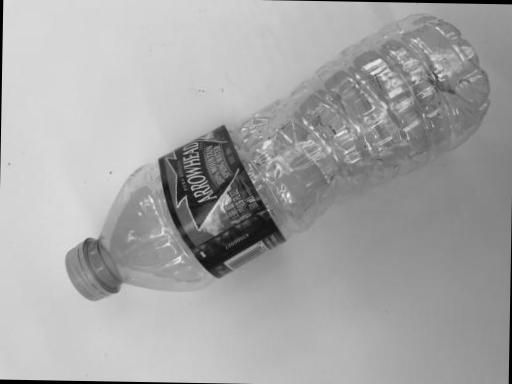plastic: (31, 1, 497, 344)
